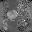people: (7, 10, 19, 22)
